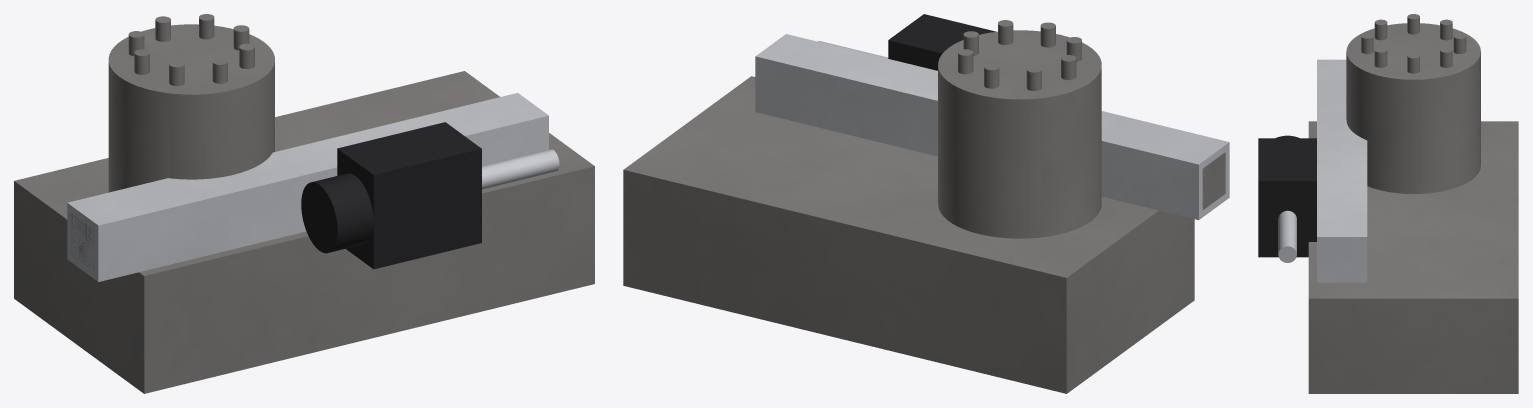
File: rover31_drill_mast.glb
3 views of the same model, side by side, from view 1: azimuth 30°, elevation 25°; view 2: azimuth 150°, elevation 25°; view 3: azimuth 270°, elevation 25° (orthographic). The views are drawn at different scales.
Parts seen in each view (by area): view 1: base, mast_outer, carousel, mast_head, mast_drill_string; view 2: base, carousel, mast_outer, mast_head, mast_inner; view 3: base, carousel, mast_outer, mast_head, mast_drill_string.
Boxes of the visible parts, x1,y1,x2,y2 form: base: (14, 71, 594, 393); mast_outer: (67, 93, 548, 281); carousel: (108, 14, 274, 192); mast_head: (301, 122, 481, 269); mast_drill_string: (482, 149, 559, 189); base: (623, 76, 1194, 393); carousel: (938, 20, 1101, 238); mast_outer: (755, 34, 1229, 220); mast_head: (888, 14, 995, 70); mast_inner: (1202, 152, 1225, 209); base: (1308, 121, 1518, 393); carousel: (1346, 14, 1480, 193); mast_outer: (1317, 59, 1367, 282); mast_head: (1258, 135, 1316, 257); mast_drill_string: (1278, 210, 1296, 262).
Size of the model in its own units: 1.09 by 0.59 by 0.62.
Materials: 3 (2 with a texture image).
